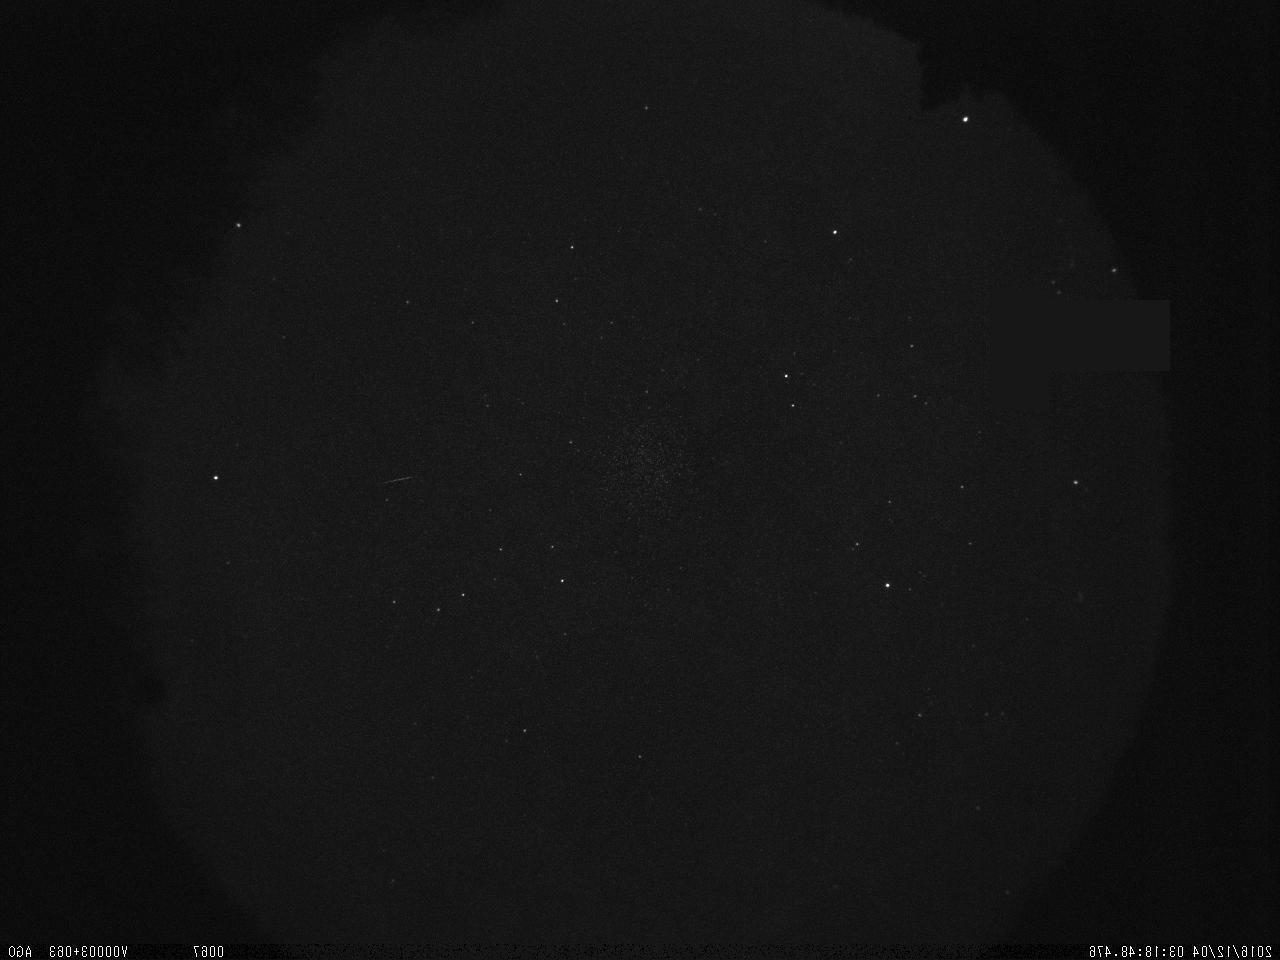meteor: (374, 469, 419, 493)
